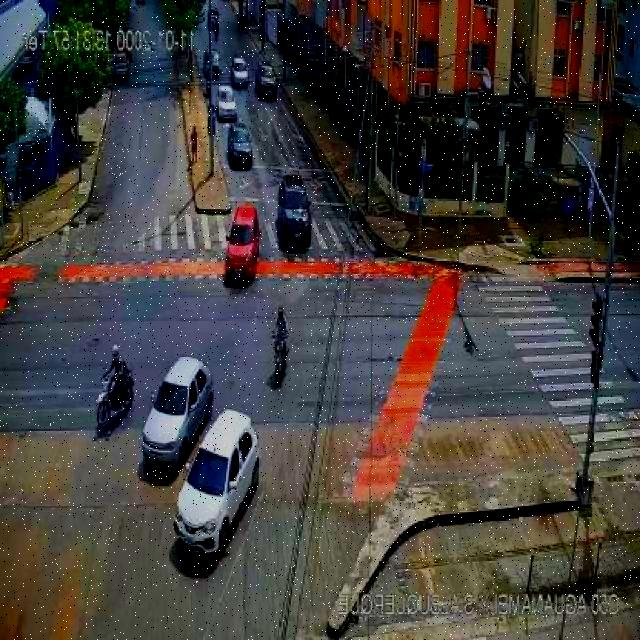Car: (173, 408, 259, 555), (141, 357, 214, 469), (224, 205, 261, 283), (276, 175, 312, 250), (227, 124, 253, 168), (256, 62, 278, 100), (217, 86, 237, 121), (112, 50, 132, 82), (230, 57, 249, 88), (203, 49, 220, 82)
